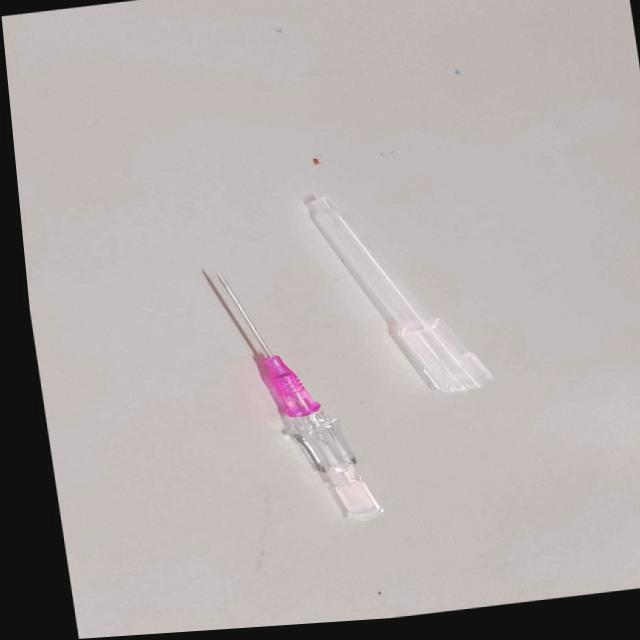General: (197, 189, 496, 523), (250, 350, 384, 522)
Pathological: (2, 1, 637, 636)
Sharps: (200, 267, 383, 520), (300, 191, 494, 394)
